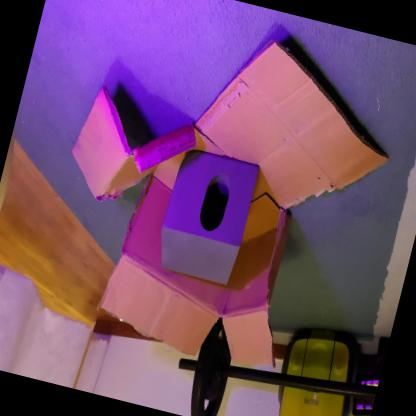CornerCasting: (150, 142, 266, 293)
